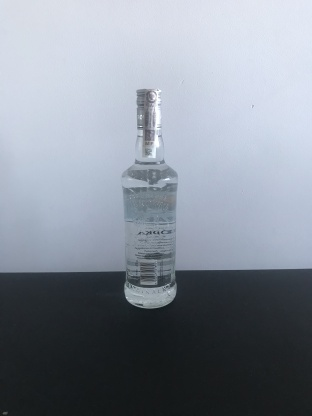nakretka: (133, 84, 164, 132)
